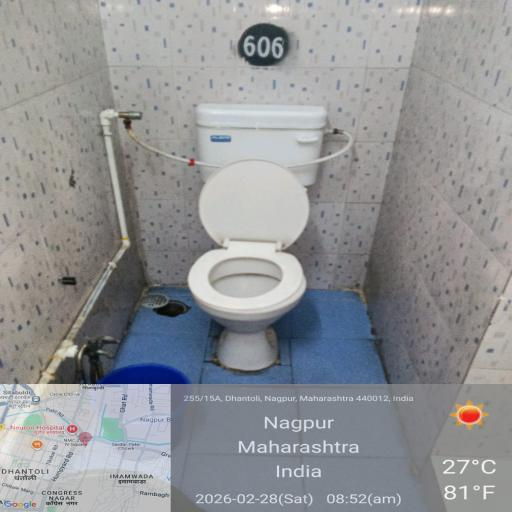clean_floor: (7, 7, 199, 428), (114, 314, 465, 512)
clean_western: (174, 97, 380, 377)
